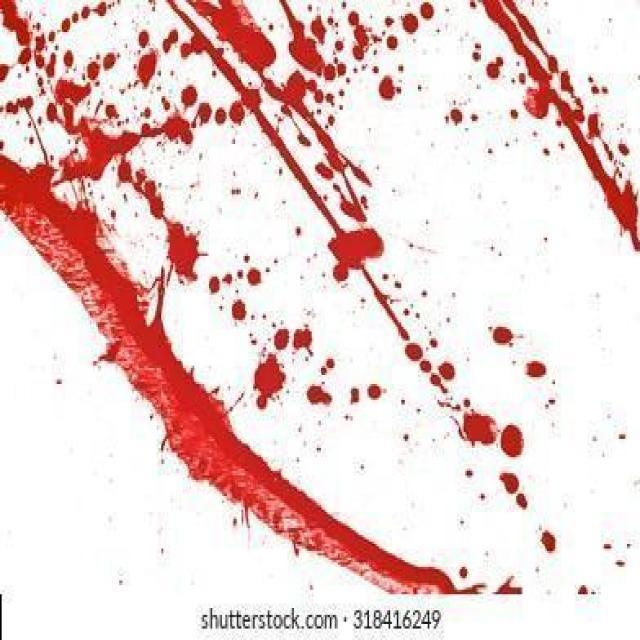knife: (95, 324, 234, 433), (0, 152, 108, 256), (42, 257, 147, 325), (304, 548, 455, 593), (187, 0, 277, 73), (186, 465, 316, 502), (290, 104, 347, 180), (285, 15, 345, 81), (593, 174, 640, 251), (163, 433, 268, 466), (326, 227, 385, 284), (165, 221, 209, 286), (239, 502, 349, 527), (404, 343, 456, 392), (521, 82, 575, 129), (78, 116, 113, 182), (332, 166, 372, 223), (252, 350, 287, 412), (271, 528, 377, 546), (133, 166, 165, 220), (207, 266, 264, 295), (259, 69, 306, 104), (224, 73, 263, 115), (457, 411, 498, 448), (0, 0, 32, 47), (572, 95, 602, 140), (346, 10, 371, 61), (603, 140, 631, 179), (53, 78, 91, 106), (498, 473, 527, 509), (545, 54, 572, 92), (500, 422, 526, 459), (161, 116, 194, 145), (577, 142, 606, 173), (307, 77, 335, 107), (153, 264, 167, 324), (179, 34, 210, 61), (137, 50, 159, 88), (113, 130, 141, 156), (5, 95, 35, 115), (306, 382, 332, 405), (444, 108, 477, 126), (61, 101, 77, 136), (59, 153, 77, 184), (436, 396, 474, 410), (377, 75, 397, 101), (485, 56, 506, 80), (369, 284, 390, 307), (493, 577, 521, 594), (400, 12, 421, 34), (292, 327, 312, 350), (230, 299, 249, 323), (179, 85, 199, 107), (586, 75, 608, 95), (491, 327, 514, 346), (457, 582, 488, 596), (116, 159, 132, 186), (271, 327, 289, 350), (162, 29, 179, 53), (539, 530, 556, 554), (524, 360, 546, 378), (138, 122, 161, 138), (229, 101, 244, 125), (419, 1, 436, 21), (102, 51, 118, 72), (85, 60, 100, 82), (197, 102, 212, 124), (45, 51, 57, 78), (470, 41, 484, 64), (320, 357, 337, 375), (384, 307, 400, 326), (45, 102, 58, 123), (18, 47, 32, 65), (138, 29, 150, 49), (214, 108, 228, 125), (367, 383, 381, 400), (104, 102, 118, 118), (349, 385, 359, 407), (385, 36, 399, 51), (36, 76, 46, 97), (63, 49, 74, 68), (458, 564, 471, 580), (139, 106, 155, 119), (0, 63, 10, 83), (35, 34, 46, 52), (395, 328, 410, 341), (96, 0, 107, 17), (60, 17, 71, 33), (160, 94, 170, 111), (35, 53, 45, 69), (80, 5, 90, 19), (70, 11, 80, 23), (47, 31, 56, 43)
